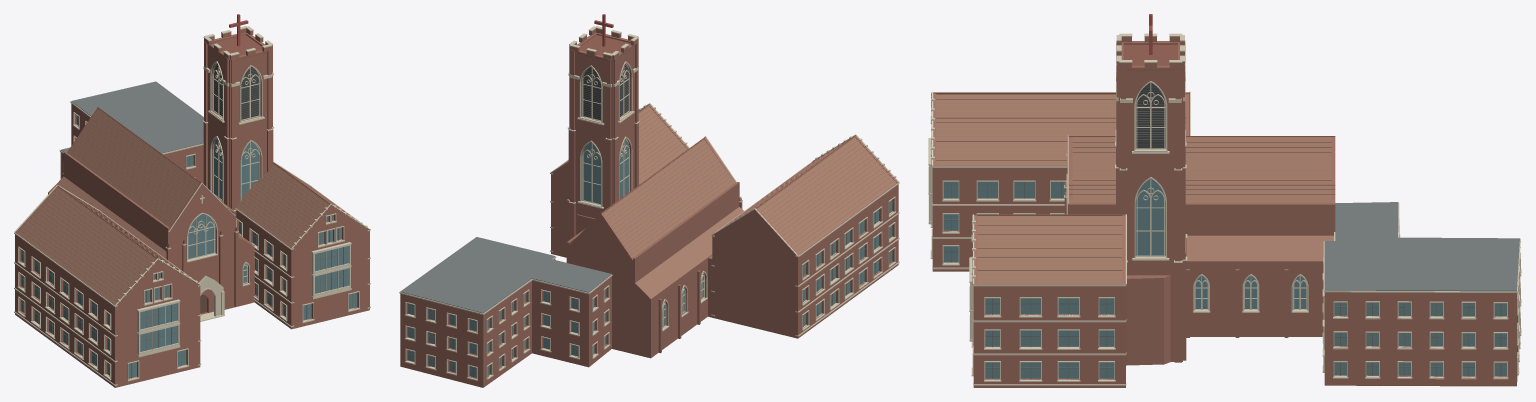
File: huangpu-moore-memorial-church-web.glb
3 views of the same model, side by side, from view 1: azimuth 30°, elevation 25°; view 2: azimuth 150°, elevation 25°; view 3: azimuth 270°, elevation 25° (orthographic). The views are drawn at different scales.
Parts seen in each view (by area): view 1: 慕尔堂（沐恩堂礼堂与钟楼）; view 2: 慕尔堂（沐恩堂礼堂与钟楼）; view 3: 慕尔堂（沐恩堂礼堂与钟楼）.
Part boxes in pixels (x1,y1,x2,y2): 慕尔堂（沐恩堂礼堂与钟楼）: (14, 14, 370, 387); 慕尔堂（沐恩堂礼堂与钟楼）: (399, 14, 899, 387); 慕尔堂（沐恩堂礼堂与钟楼）: (928, 14, 1521, 387).
Bounding box in the file's own units: 47.08 × 42.83 × 68.92.
